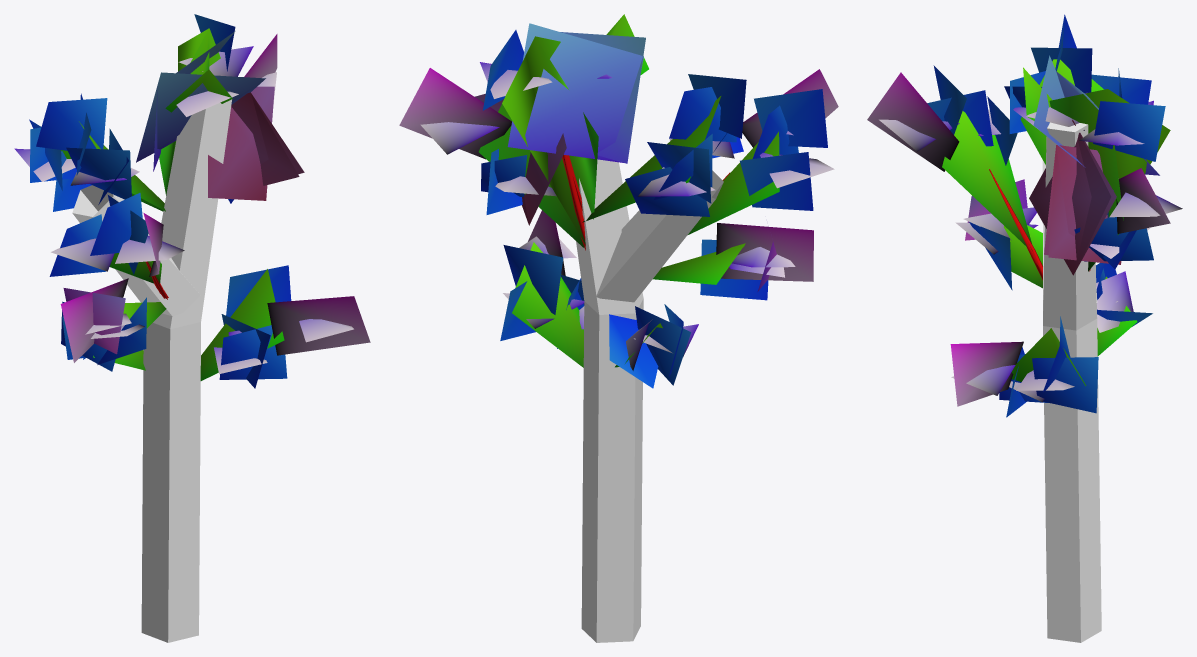
Rendered from oak_c.dae.
The picture shows the model from 3 angles, left to right: view 1: azimuth 30°, elevation 25°; view 2: azimuth 150°, elevation 25°; view 3: azimuth 270°, elevation 25°; orthographic projection. The views are drawn at different scales.
Visible parts, largest first — view 1: oak_c_a350, Colmesh-1, oak_c_a700; view 2: oak_c_a350, Colmesh-1, oak_c_a700; view 3: oak_c_a350, Colmesh-1, oak_c_a700.
Boxes of the visible parts, x1=… form: oak_c_a350: x1=14, y1=14, x2=370, y2=388; Colmesh-1: x1=72, y1=99, x2=231, y2=642; oak_c_a700: x1=93, y1=69, x2=299, y2=380; oak_c_a350: x1=399, y1=23, x2=838, y2=388; Colmesh-1: x1=576, y1=159, x2=723, y2=642; oak_c_a700: x1=482, y1=14, x2=745, y2=367; oak_c_a350: x1=867, y1=14, x2=1182, y2=417; Colmesh-1: x1=1042, y1=122, x2=1101, y2=642; oak_c_a700: x1=989, y1=67, x2=1137, y2=385.
Size of the model in its own units: 4.66 by 3.98 by 7.92.
